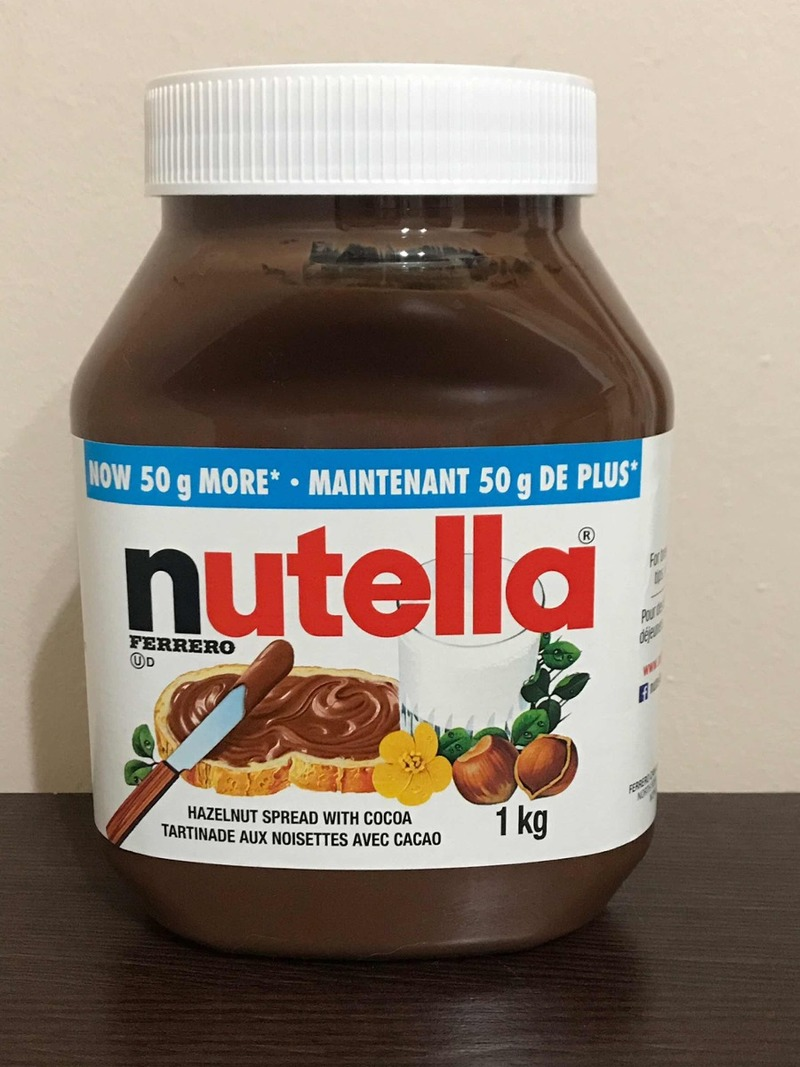nutella: (72, 65, 677, 952)
